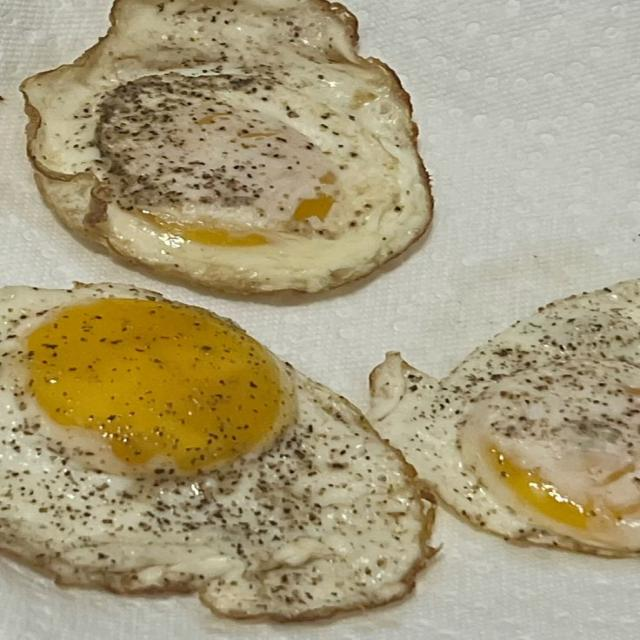fryed egg: (0, 285, 432, 619), (23, 0, 431, 292), (370, 281, 639, 555)
